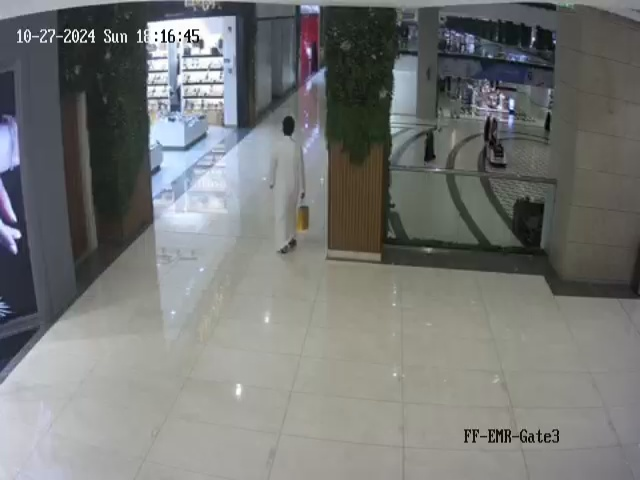female: (422, 122, 437, 173), (479, 111, 491, 146), (543, 110, 552, 136)
male: (264, 111, 314, 260)
